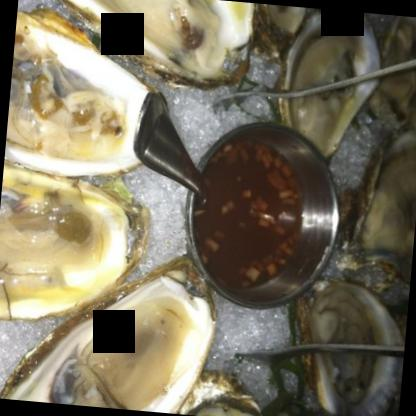oyster: (0, 250, 218, 415), (3, 13, 162, 182), (0, 163, 154, 330), (22, 0, 259, 93), (281, 271, 410, 415), (271, 6, 387, 162)
